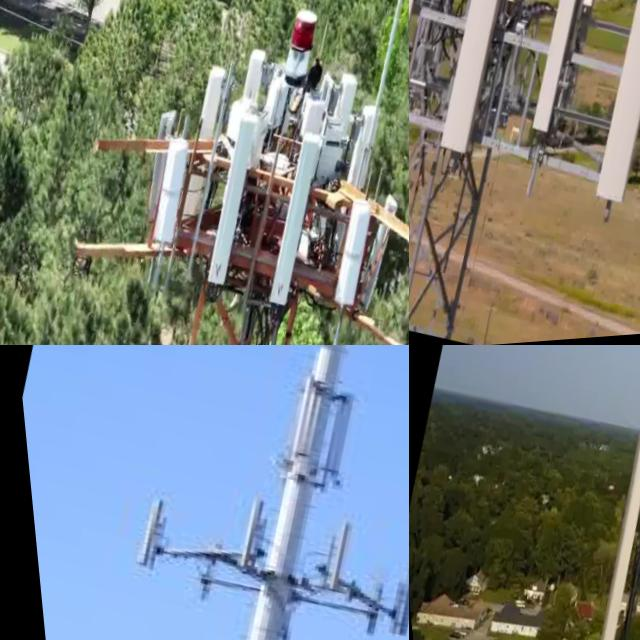GSM Antenna: (534, 345, 640, 640), (409, 0, 557, 178), (536, 388, 640, 640), (236, 126, 344, 338), (171, 119, 275, 323), (556, 0, 640, 226), (503, 0, 604, 155), (307, 191, 388, 325), (121, 106, 188, 229), (130, 135, 197, 256), (210, 493, 271, 584), (409, 0, 456, 104), (182, 64, 231, 152), (115, 493, 168, 574), (305, 519, 351, 601), (365, 562, 409, 640), (226, 44, 272, 115)
